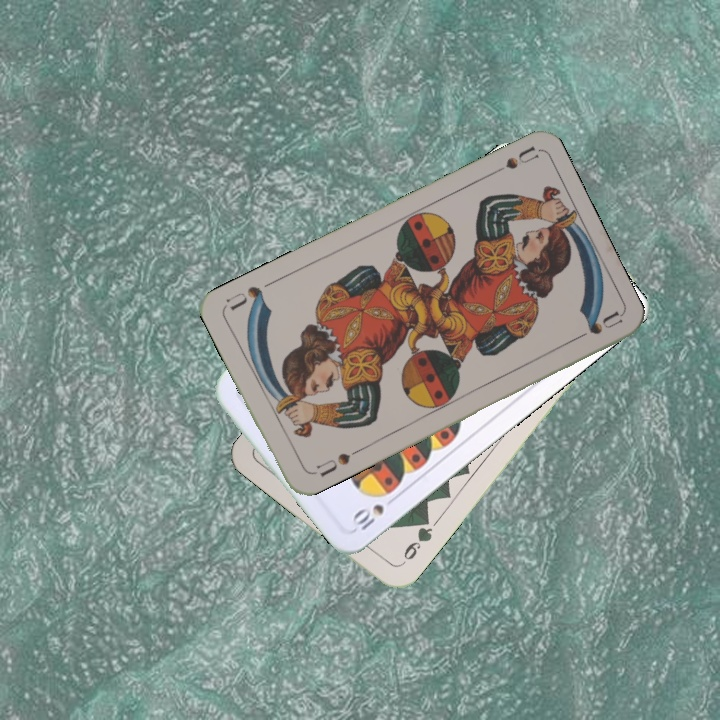G9: (396, 514, 436, 569)
S10: (347, 491, 400, 535)
SU: (483, 143, 540, 180), (312, 448, 353, 480)
